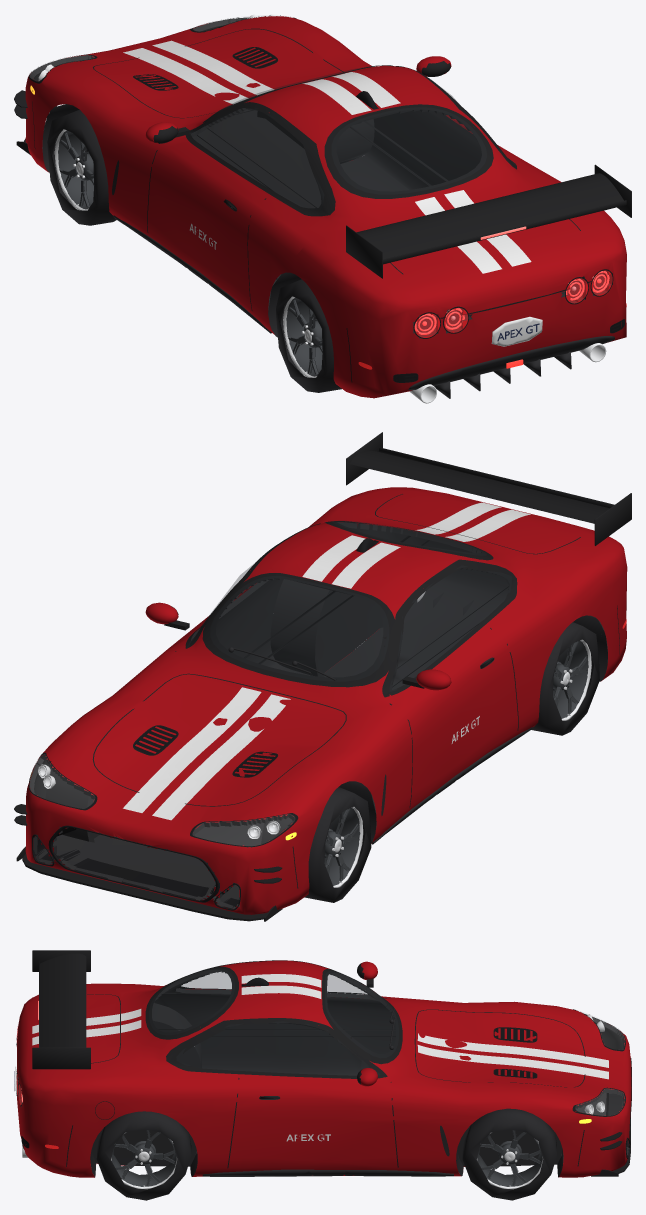
The model's file is apex_lod1.glb.
3 renders of one model, top to bottom at view 1: azimuth 30°, elevation 25°; view 2: azimuth 150°, elevation 25°; view 3: azimuth 270°, elevation 25°, orthographic. The views are drawn at different scales.
Visible parts, largest first — view 1: Body, Win_Rear, WG_Main, Win_Side, Win_Rear_Trim, Tire_p_FL, Win_Side_Trim, Det_StripeHood, Tire_p_RL, Diffuser, Det_StripeTrunk, Det_StripeRoof (+14 smaller); view 2: Body, Win_Front, Win_Side, Det_StripeHood, WG_Main, Win_Front_Trim, Win_Side_Trim, Tire_p_FL, Tire_p_RL, Det_Splitter, Det_StripeRoof, Det_StripeTrunk (+15 smaller); view 3: Body, Win_Side, WG_Main, Win_Front, Win_Rear, Tire_p_FR, Tire_p_RR, Det_StripeHood, Win_Side_Trim, Rocker, Win_Front_Trim, Win_Rear_Trim (+11 smaller).
Boxes of the visible parts, x1,y1,x2,y2 form: Body: (25,16,626,398); Win_Rear: (332,107,486,194); WG_Main: (356,173,623,259); Win_Side: (190,82,457,210); Win_Rear_Trim: (324,104,493,198); Tire_p_FL: (47,109,116,225); Win_Side_Trim: (185,66,516,216); Det_StripeHood: (123,40,274,104); Tire_p_RL: (276,279,341,392); Diffuser: (408,336,614,390); Det_StripeTrunk: (415,190,531,273); Det_StripeRoof: (302,72,400,114); Body: (25,487,627,914); Win_Front: (210,576,388,681); Win_Side: (190,563,511,691); Det_StripeHood: (123,687,290,820); WG_Main: (350,451,609,523); Win_Front_Trim: (202,573,397,687); Win_Side_Trim: (185,523,517,697); Tire_p_FL: (304,787,371,902); Tire_p_RL: (531,622,599,735); Det_Splitter: (22,854,267,921); Det_StripeRoof: (302,535,400,588); Det_StripeTrunk: (415,502,530,541); Body: (17,960,631,1177); Win_Side: (176,1021,379,1075); WG_Main: (40,953,86,1047); Win_Front: (325,971,398,1057); Win_Rear: (149,968,234,1034); Tire_p_FR: (462,1108,556,1200); Tire_p_RR: (96,1111,191,1200); Det_StripeHood: (417,1033,608,1079); Win_Side_Trim: (166,960,387,1078); Rocker: (202,1169,453,1176); Win_Front_Trim: (322,969,402,1064); Win_Rear_Trim: (145,966,238,1039).
Size of the model in its own units: 2.01 by 1.35 by 4.43.
